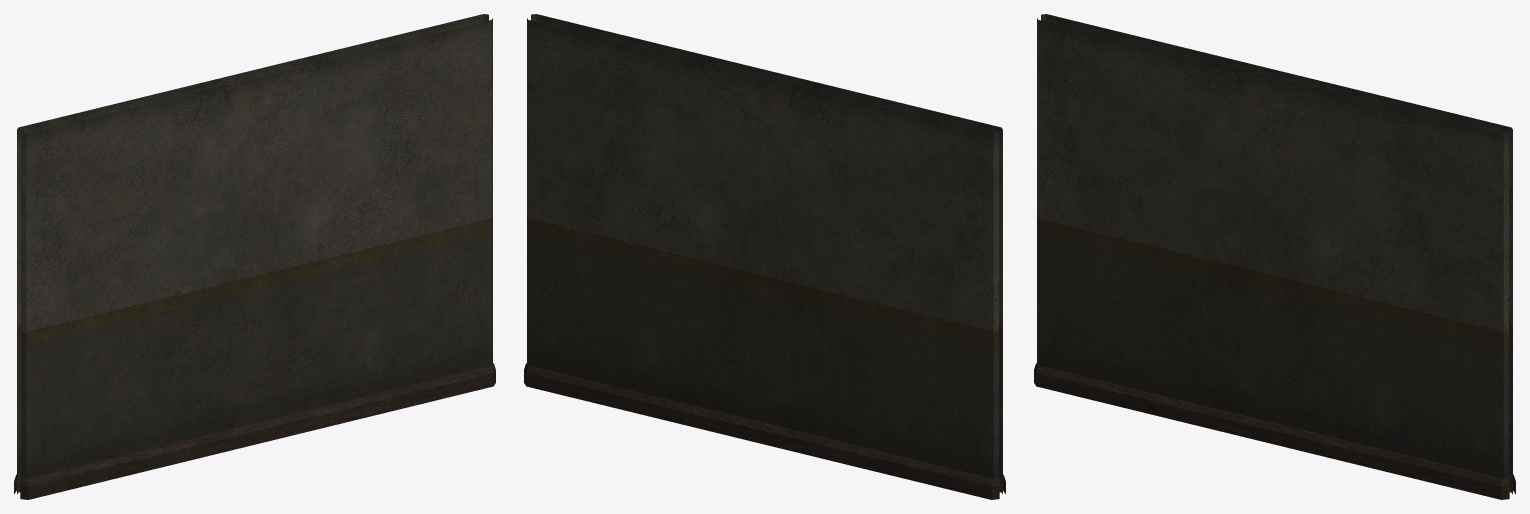
Rendered from wall_1.glb.
The picture shows the model from 3 angles, left to right: view 1: azimuth 30°, elevation 25°; view 2: azimuth 150°, elevation 25°; view 3: azimuth 330°, elevation 25°; orthographic projection.
Visible parts, largest first — view 1: wall_1; view 2: wall_1; view 3: wall_1.
Part boxes in pixels (x1,y1,x2,y2): wall_1: (14, 14, 495, 499); wall_1: (524, 14, 1005, 499); wall_1: (1034, 14, 1515, 499).
Size of the model in its own units: 4.09 by 3 by 0.18.
Materials: 2 (2 with a texture image).
